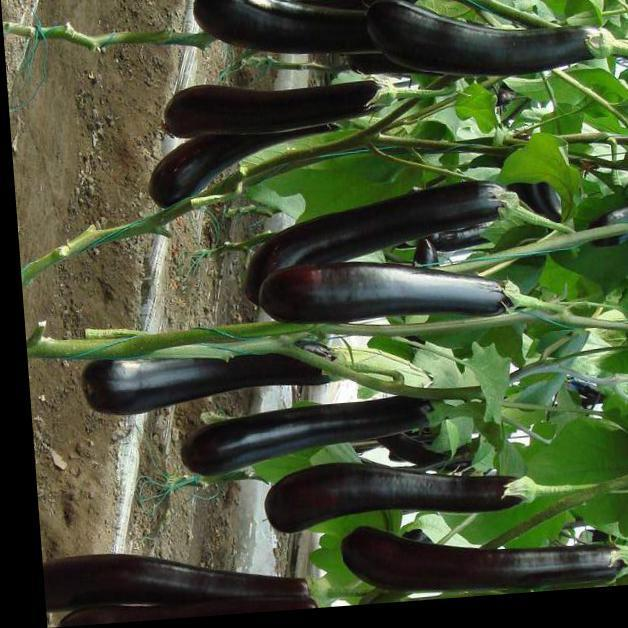eggplant: (208, 373, 538, 572), (250, 172, 544, 346), (328, 8, 618, 129)
